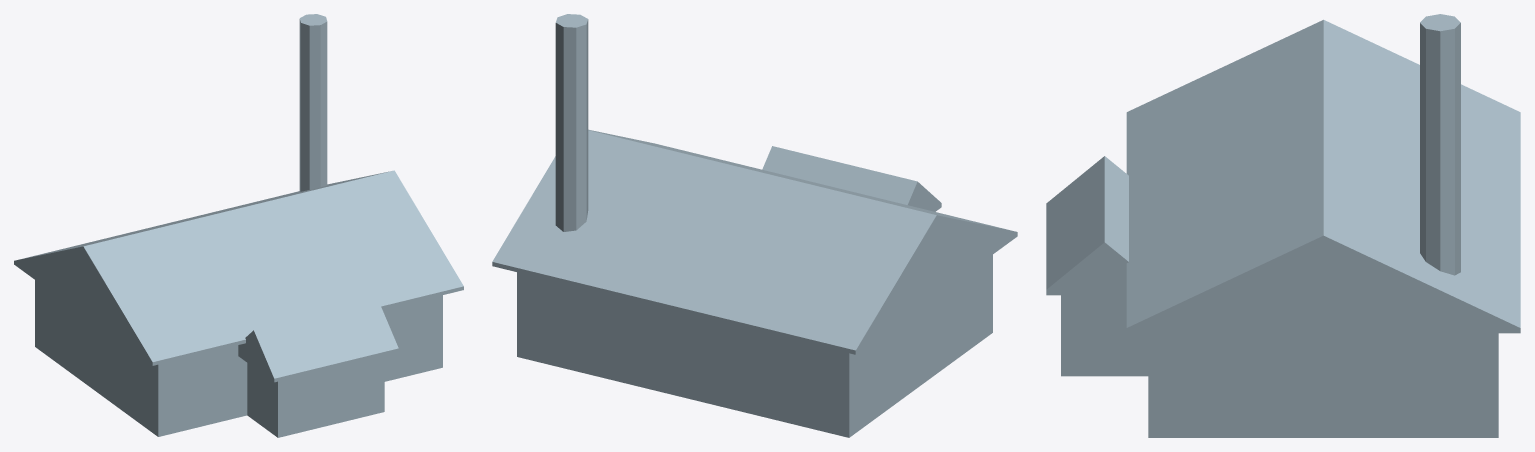
Rendered from bo_bathhouse.fbx.
The picture shows the model from 3 angles, left to right: view 1: azimuth 30°, elevation 25°; view 2: azimuth 150°, elevation 25°; view 3: azimuth 270°, elevation 25°; orthographic projection. The views are drawn at different scales.
Parts seen in each view (by area): view 1: bo_bathhouse; view 2: bo_bathhouse; view 3: bo_bathhouse.
Part boxes in pixels (x1,y1,x2,y2): bo_bathhouse: (14,14,463,437); bo_bathhouse: (492,14,1017,437); bo_bathhouse: (1046,14,1520,437).
Bounding box in the file's own units: 17.5 × 15 × 16.25.
1 material, 1 textured.
